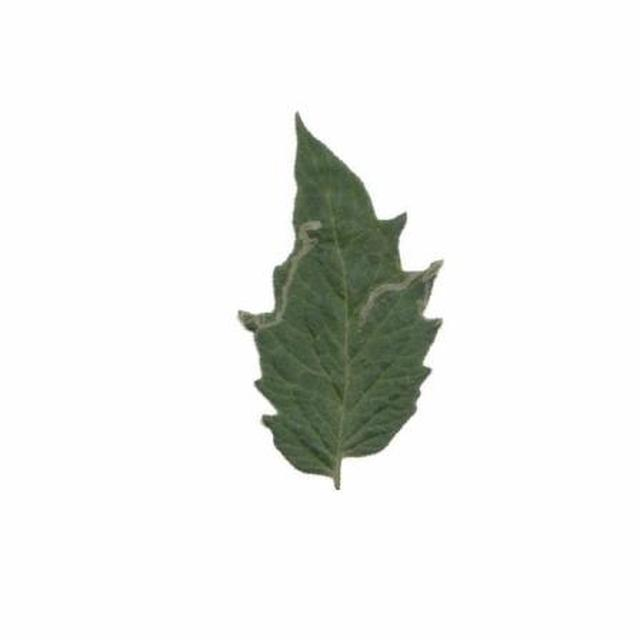Leaf Miner: (341, 166, 640, 640)
